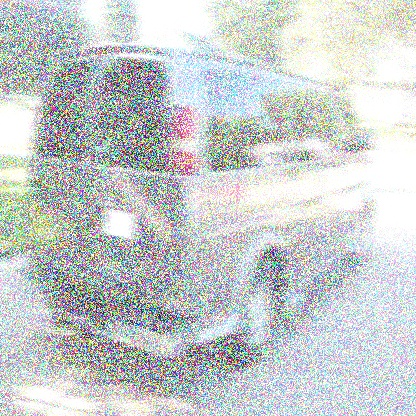Vehicle: (23, 41, 378, 375)
